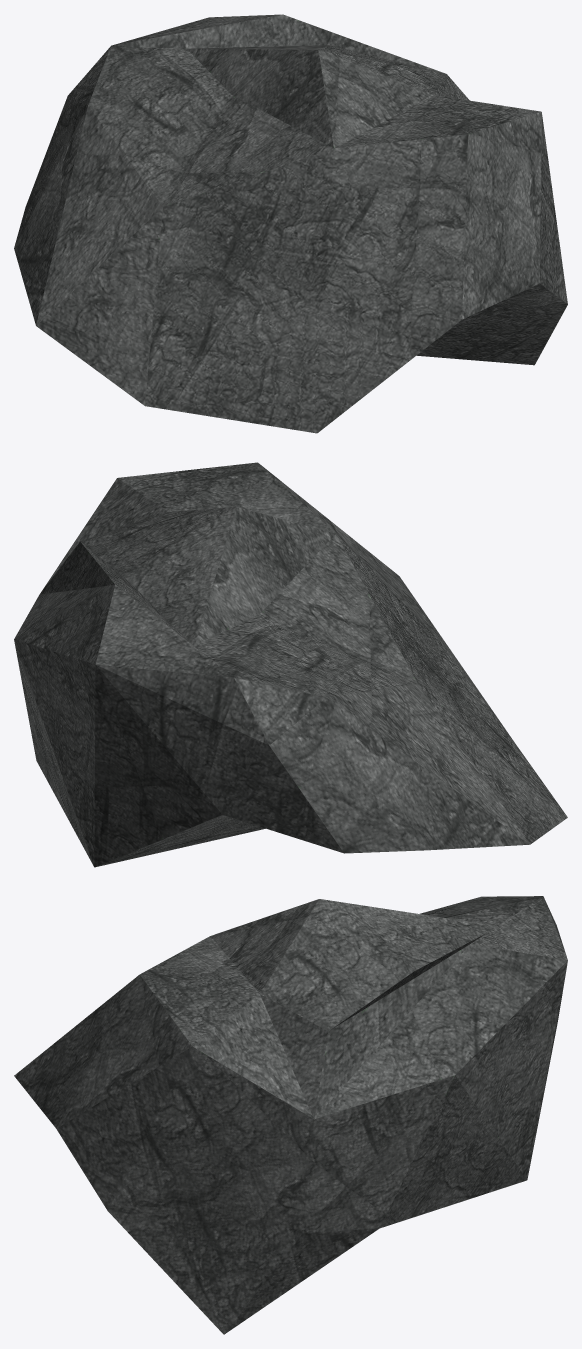
File: rock.FBX
3 renders of one model, top to bottom at view 1: azimuth 30°, elevation 25°; view 2: azimuth 150°, elevation 25°; view 3: azimuth 270°, elevation 25°, orthographic. The views are drawn at different scales.
Visible parts, largest first — view 1: GeoSphere001; view 2: GeoSphere001; view 3: GeoSphere001.
Boxes of the visible parts, x1,y1,x2,y2 form: GeoSphere001: (14,14,567,433); GeoSphere001: (14,462,567,867); GeoSphere001: (14,896,567,1334).
Size of the model in its own units: 71.24 by 49.66 by 71.93.
1 material, 1 textured.
